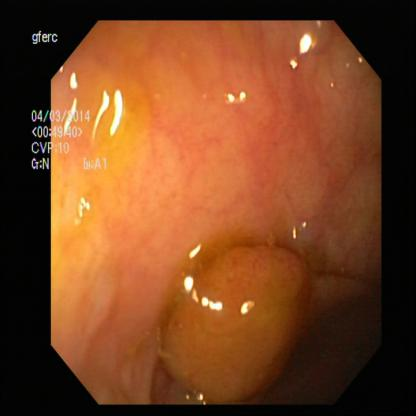Labels: (29, 27, 117, 183)
Polyps: (168, 244, 307, 390)
